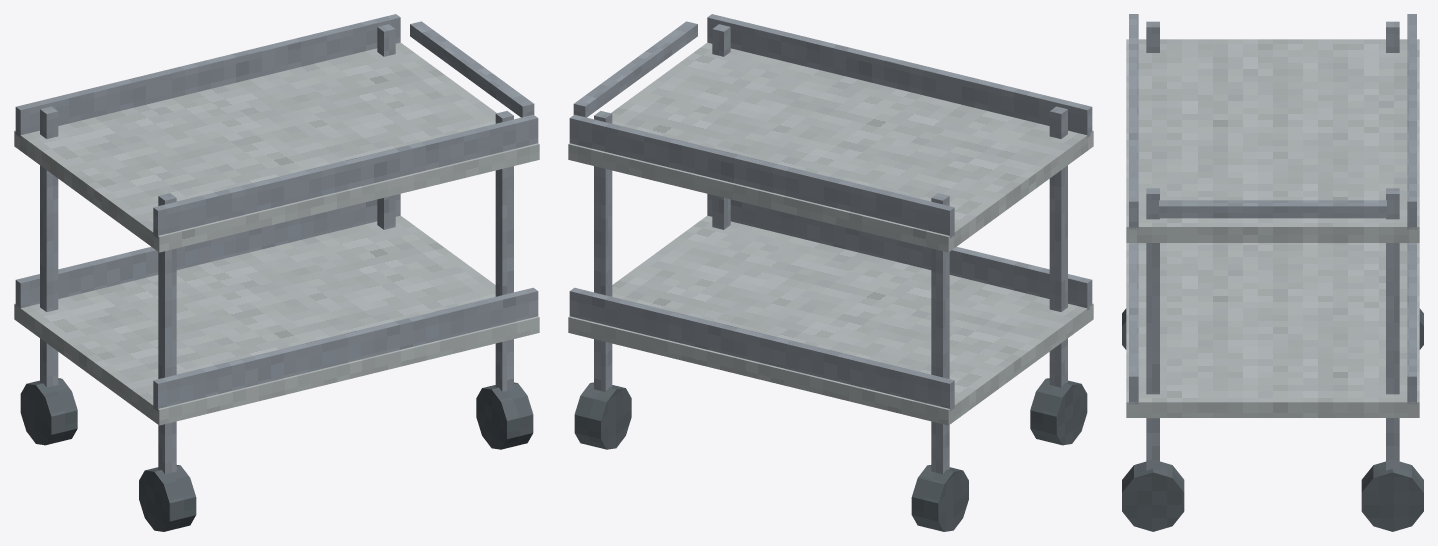
Rendered from level_blockout_refined_mortuary_instrument_cart.glb.
3 views of the same model, side by side, from view 1: azimuth 30°, elevation 25°; view 2: azimuth 150°, elevation 25°; view 3: azimuth 270°, elevation 25° (orthographic).
Visible parts, largest first — view 1: level_blockout_refined_mortuary_instrument_cart; view 2: level_blockout_refined_mortuary_instrument_cart; view 3: level_blockout_refined_mortuary_instrument_cart.
Boxes of the visible parts, x1,y1,x2,y2 form: level_blockout_refined_mortuary_instrument_cart: (14, 14, 539, 531); level_blockout_refined_mortuary_instrument_cart: (568, 14, 1093, 531); level_blockout_refined_mortuary_instrument_cart: (1122, 14, 1423, 531).
Size of the model in its own units: 1.18 by 0.9575 by 0.7817.
Materials: 3 (3 with a texture image).
